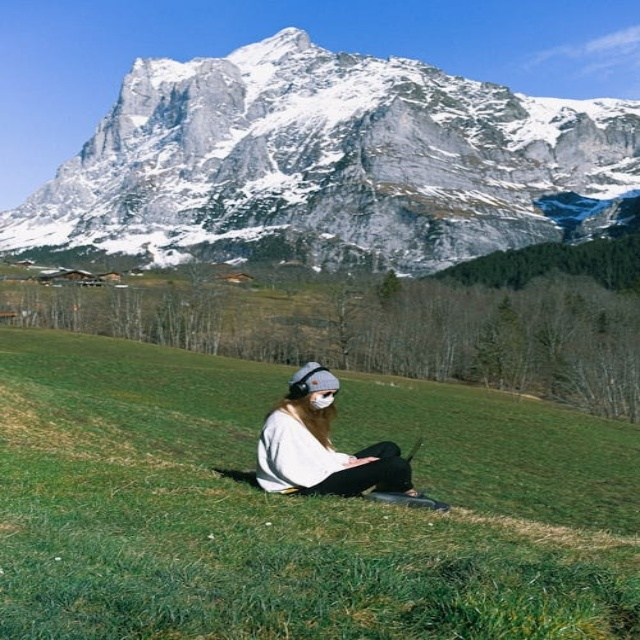Gafas: (310, 386, 340, 400)
Mascara: (310, 392, 336, 410)
